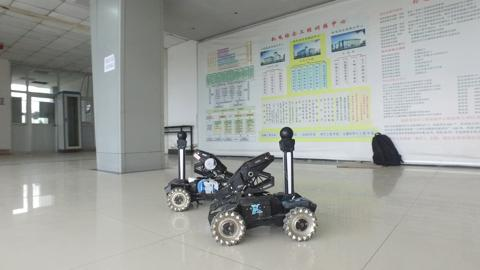chariot: (203, 119, 325, 245), (159, 127, 239, 212)
